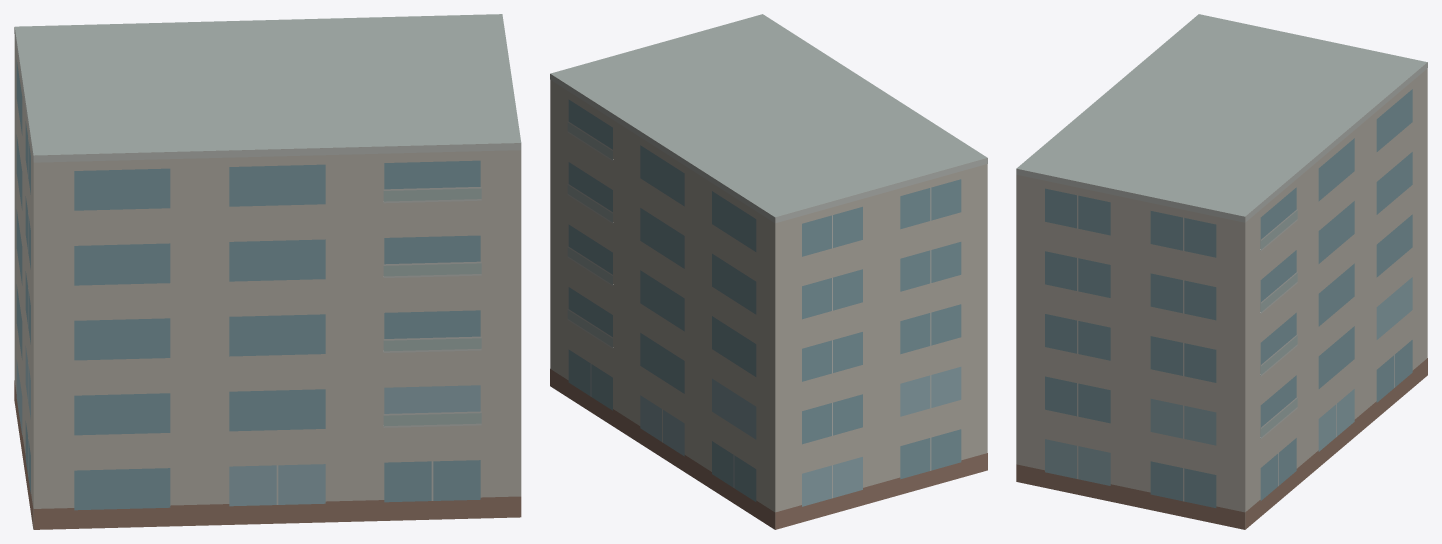
Rendered from survey-upis-33024679.glb.
3 views of the same model, side by side, from view 1: azimuth 30°, elevation 25°; view 2: azimuth 150°, elevation 25°; view 3: azimuth 270°, elevation 25° (orthographic). The views are drawn at different scales.
Visible parts, largest first — view 1: survey-upis-33024679.tmp; view 2: survey-upis-33024679.tmp; view 3: survey-upis-33024679.tmp.
Boxes of the visible parts, box(x1,y1,x2,y2) form: survey-upis-33024679.tmp: box(14, 14, 521, 529); survey-upis-33024679.tmp: box(550, 14, 987, 529); survey-upis-33024679.tmp: box(1016, 14, 1427, 529).
Bounding box in the file's own units: 17.64 × 12.7 × 15.13.
